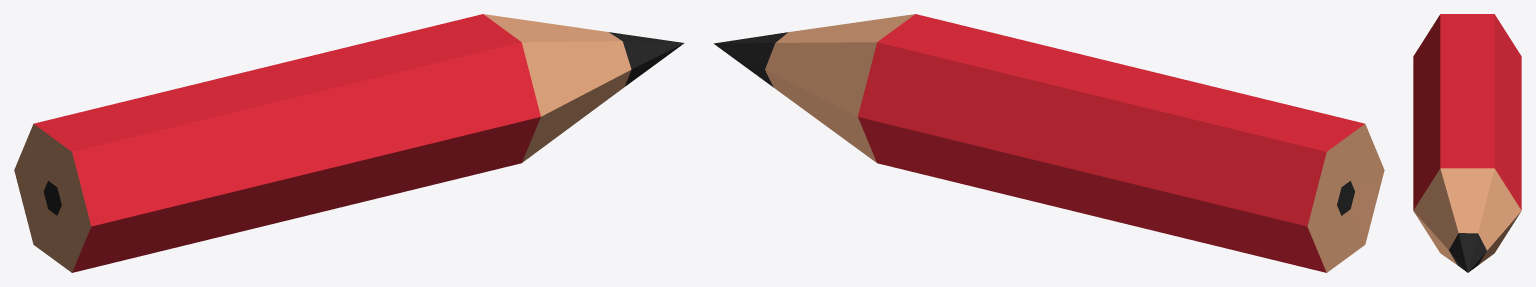
File: pencil1.fbx
3 views of the same model, side by side, from view 1: azimuth 30°, elevation 25°; view 2: azimuth 150°, elevation 25°; view 3: azimuth 270°, elevation 25° (orthographic). The views are drawn at different scales.
Visible parts, largest first — view 1: Cylinder.002; view 2: Cylinder.002; view 3: Cylinder.002.
Part boxes in pixels (x1,y1,x2,y2): Cylinder.002: [14, 14, 684, 272]; Cylinder.002: [713, 14, 1384, 272]; Cylinder.002: [1413, 14, 1521, 272].
Size of the model in its own units: 947 by 173 by 200.
